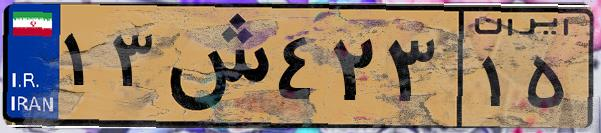1: (57, 26, 110, 100), (475, 38, 525, 113)
2: (330, 28, 385, 110)
3: (385, 28, 445, 110), (110, 28, 158, 98)
4: (270, 28, 330, 110)
5: (525, 38, 570, 115)
ش: (158, 12, 270, 120)
